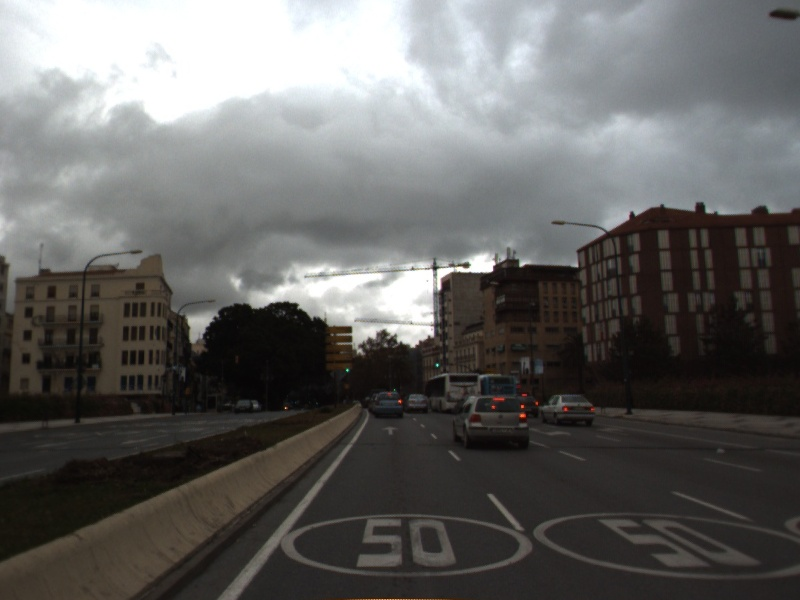RIGHT: (594, 425, 631, 438)
STRAIGHT: (380, 424, 401, 437)
STRAIGHT_RIGHT: (527, 425, 573, 439)
